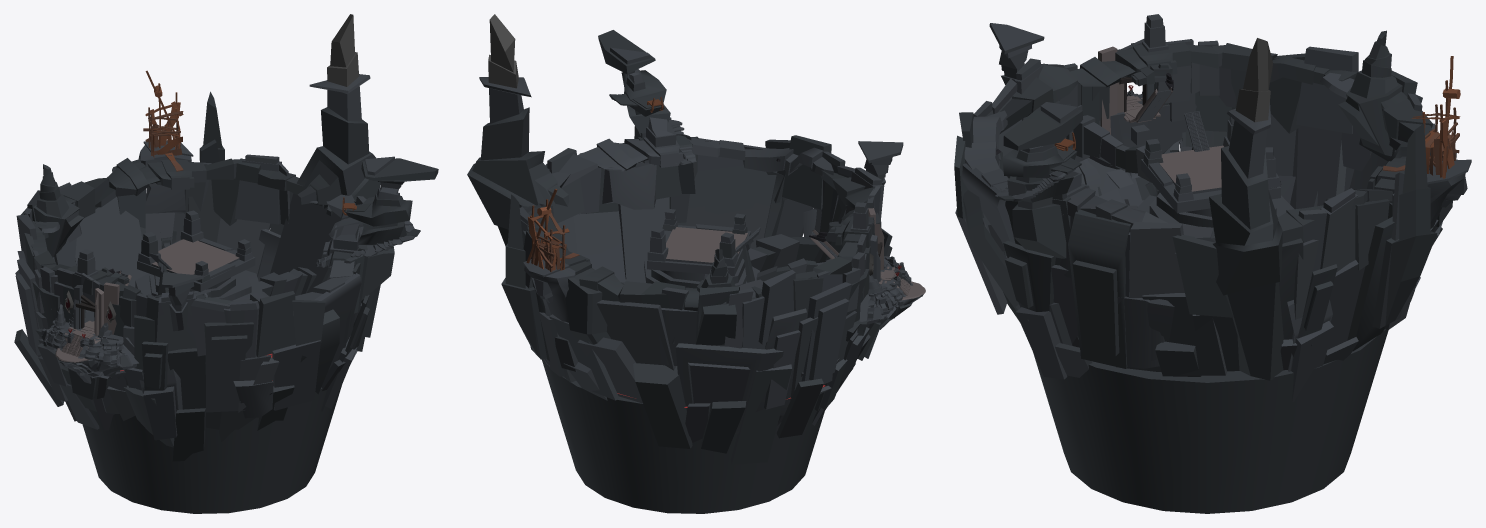
3 renders of one model, left to right at view 1: azimuth 30°, elevation 25°; view 2: azimuth 150°, elevation 25°; view 3: azimuth 270°, elevation 25°, orthographic. The views are drawn at different scales.
Visible parts, largest first — view 1: segment_1; view 2: segment_1; view 3: segment_1.
Boxes of the visible parts, bbox=[...] form: segment_1: bbox=[14, 14, 438, 513]; segment_1: bbox=[467, 14, 925, 513]; segment_1: bbox=[954, 14, 1471, 513].
Size of the model in its own units: 91.2 by 92.7 by 83.32.
